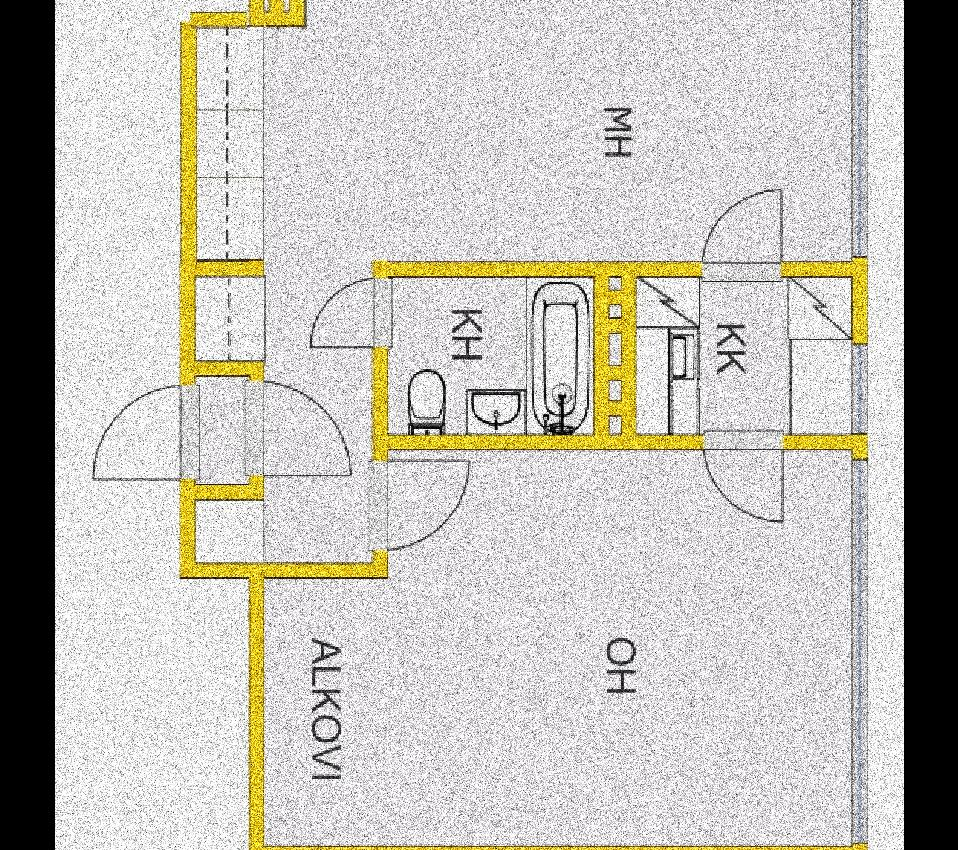door: (84, 377, 352, 497), (362, 454, 475, 552), (693, 427, 787, 531), (692, 187, 787, 288), (302, 276, 394, 354)
window: (196, 0, 850, 566), (264, 445, 854, 845), (631, 277, 852, 433), (387, 275, 593, 434), (848, 456, 868, 843), (845, 0, 871, 257), (853, 344, 874, 432)
